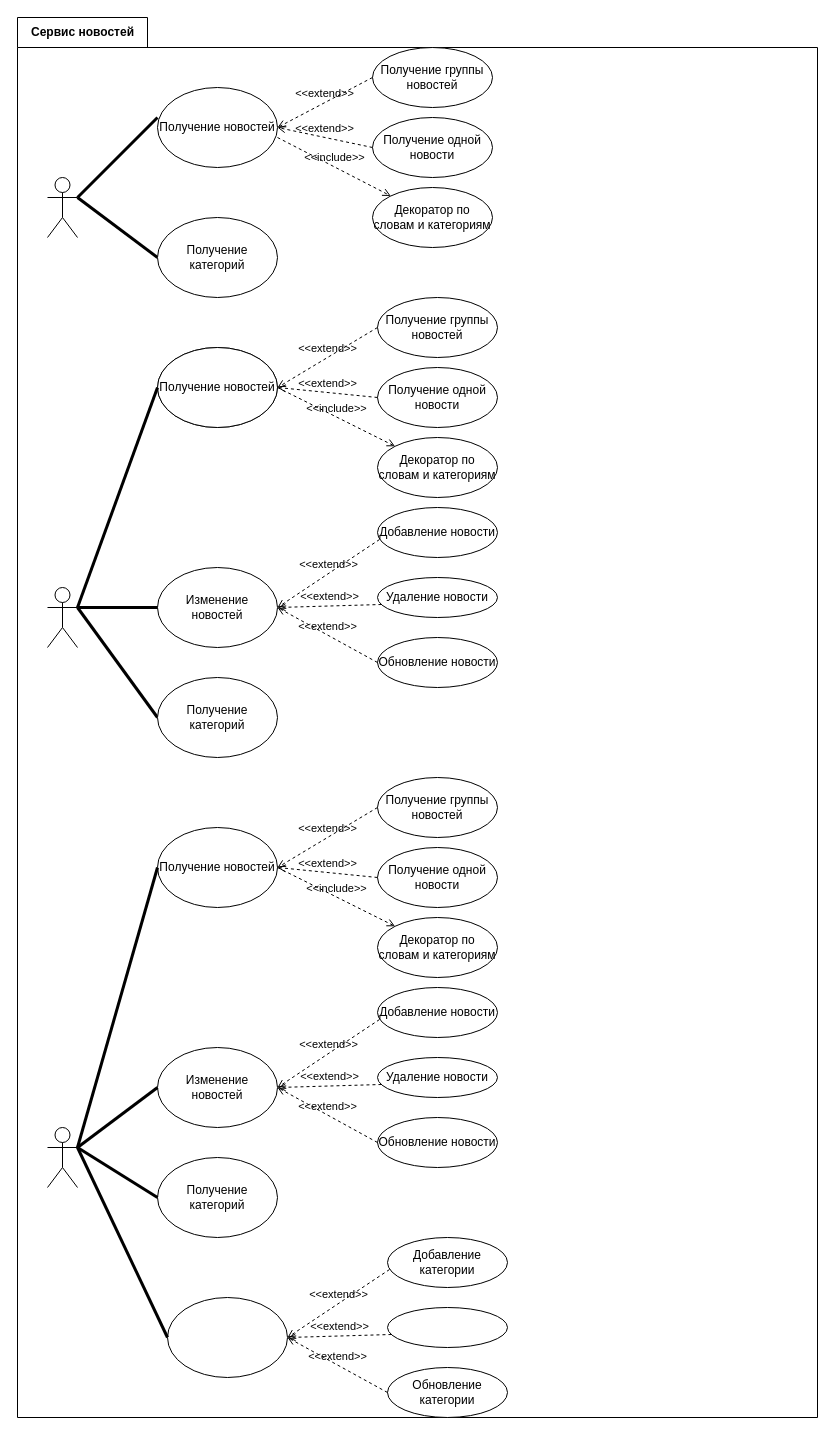
This 835x1435 diagram has some shape labels left out. Here are the shapes that lost their labels. From the top down, the centre of each, then its label:
the point at 62,207: Читатель
the point at 62,617: Автор
the point at 62,1157: Админ
the point at 227,1337: Изменение категорий
the point at 447,1327: Удаление категории
